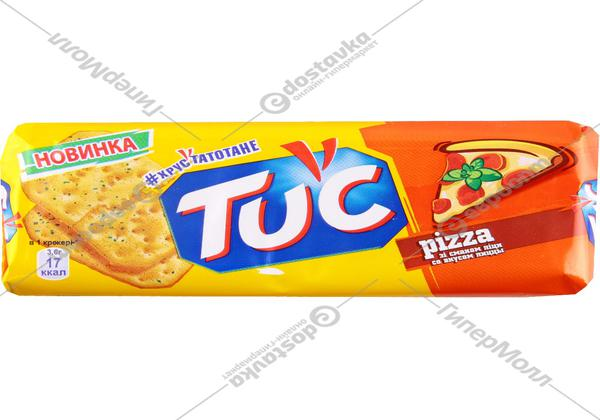crackers tuc: (20, 123, 587, 295)
